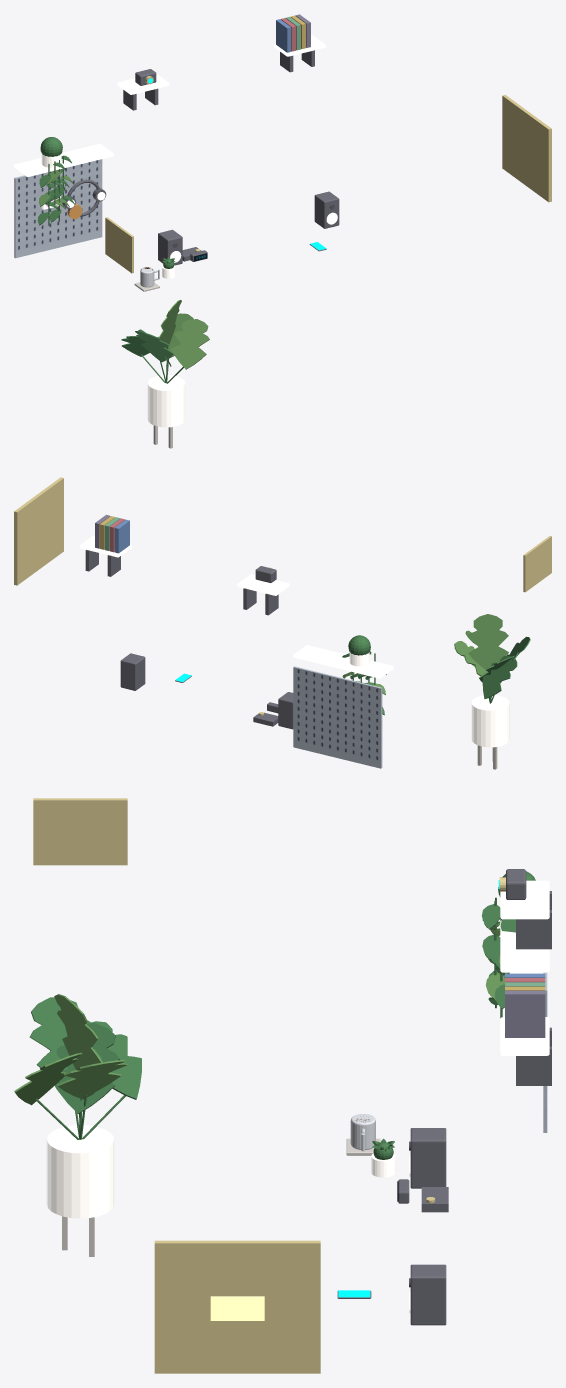
The model's file is group-b-props.glb.
The picture shows the model from 3 angles, top to bottom: view 1: azimuth 30°, elevation 25°; view 2: azimuth 150°, elevation 25°; view 3: azimuth 270°, elevation 25°; orthographic projection. The views are drawn at different scales.
Parts seen in each view (by area): view 1: pegboard_panel, painting_frame, pot_monstera, monstera_leaf_6, shelf_rear_lower, certificate_frame, speaker_right_cabinet, speaker_left_cabinet, monstera_leaf_3; view 2: pegboard_panel, painting_frame, pot_monstera, monstera_leaf_4, shelf_rear_lower, certificate_frame, speaker_right_cabinet, monstera_leaf_5, shelf_rear_upper, speaker_left_cabinet, book_vol_1, monstera_leaf_2 (+1 smaller); view 3: painting_frame, certificate_frame, pot_monstera, speaker_right_cabinet, speaker_left_cabinet, book_vol_5, monstera_leaf_4, monstera_leaf_3, monstera_leaf_1, shelf_rear_upper, monstera_leaf_2, shelf_rear_lower (+8 smaller).
Part boxes in pixels (x1=…): pegboard_panel: x1=14, y1=159, x2=102, y2=258; painting_frame: x1=502, y1=95, x2=551, y2=202; pot_monstera: x1=147, y1=375, x2=185, y2=427; monstera_leaf_6: x1=171, y1=319, x2=209, y2=369; shelf_rear_lower: x1=14, y1=143, x2=113, y2=176; certificate_frame: x1=105, y1=217, x2=133, y2=273; speaker_right_cabinet: x1=314, y1=191, x2=339, y2=228; speaker_left_cabinet: x1=158, y1=229, x2=182, y2=265; monstera_leaf_3: x1=135, y1=331, x2=173, y2=362; pegboard_panel: x1=293, y1=666, x2=382, y2=768; painting_frame: x1=14, y1=477, x2=63, y2=585; pot_monstera: x1=471, y1=695, x2=509, y2=747; monstera_leaf_4: x1=468, y1=614, x2=508, y2=669; shelf_rear_lower: x1=293, y1=645, x2=393, y2=678; certificate_frame: x1=523, y1=536, x2=551, y2=592; speaker_right_cabinet: x1=120, y1=653, x2=145, y2=690; monstera_leaf_5: x1=482, y1=656, x2=517, y2=698; shelf_rear_upper: x1=237, y1=574, x2=289, y2=595; speaker_left_cabinet: x1=278, y1=692, x2=293, y2=729; book_vol_1: x1=114, y1=519, x2=129, y2=553; monstera_leaf_2: x1=454, y1=641, x2=487, y2=676; painting_frame: x1=154, y1=1240, x2=320, y2=1373; certificate_frame: x1=33, y1=798, x2=127, y2=865; pot_monstera: x1=46, y1=1125, x2=114, y2=1218; speaker_right_cabinet: x1=410, y1=1264, x2=446, y2=1325; speaker_left_cabinet: x1=410, y1=1128, x2=446, y2=1188; book_vol_5: x1=505, y1=990, x2=545, y2=1037; monstera_leaf_4: x1=54, y1=994, x2=102, y2=1070; monstera_leaf_3: x1=29, y1=997, x2=91, y2=1082; monstera_leaf_1: x1=55, y1=1023, x2=119, y2=1113; shelf_rear_upper: x1=500, y1=880, x2=549, y2=919; monstera_leaf_2: x1=57, y1=1059, x2=127, y2=1099; shelf_rear_lower: x1=500, y1=920, x2=549, y2=972.
Size of the model in its own units: 4.18 by 2.38 by 2.4.
24 materials, 3 textured.
